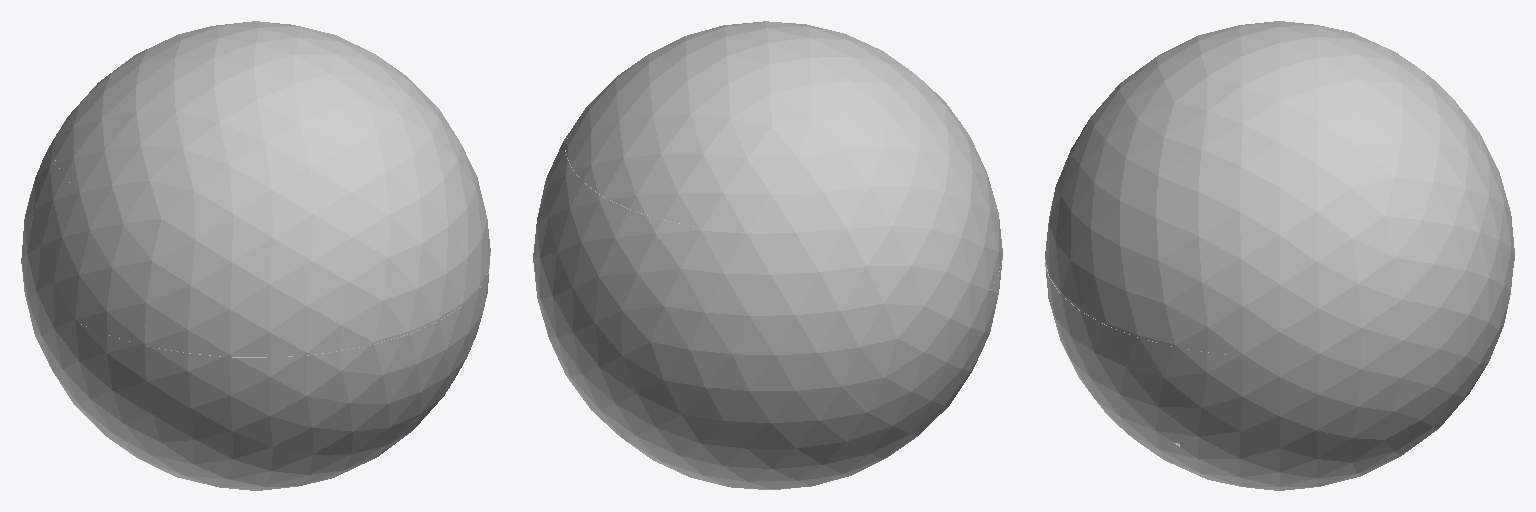
The model's file is muchospisces.obj.
3 renders of one model, left to right at view 1: azimuth 30°, elevation 25°; view 2: azimuth 150°, elevation 25°; view 3: azimuth 270°, elevation 25°, orthographic.
Visible parts, largest first — view 1: sphere.282, sphere.344, sphere.347, sphere.267, sphere.144, sphere.332, sphere.154, sphere.285, sphere.415, sphere.346, sphere.115, sphere.335 (+28 smaller); view 2: sphere.240, sphere.369, sphere.373, sphere.252, sphere.230, sphere.366, sphere.302, sphere.266, sphere.441, sphere.299, sphere.296, sphere.371 (+28 smaller); view 3: sphere.233, sphere.367, sphere.324, sphere.138, sphere.342, sphere.435, sphere.232, sphere.372, sphere.409, sphere.265, sphere.358, sphere.296 (+28 smaller).
Part boxes in pixels (x1,y1,x2,y2): sphere.282: (305,96,392,162); sphere.344: (367,264,428,344); sphere.347: (272,291,332,356); sphere.267: (338,159,412,227); sphere.144: (357,208,423,282); sphere.332: (123,279,179,351); sphere.154: (260,235,328,295); sphere.285: (222,115,298,178); sphere.415: (252,399,328,455); sphere.346: (224,295,274,356); sphere.115: (77,263,130,338); sphere.335: (86,208,152,278); sphere.240: (600,202,668,281); sphere.369: (595,263,656,343); sphere.373: (690,289,752,356); sphere.252: (696,229,764,293); sphere.230: (865,207,937,280); sphere.366: (884,262,945,341); sphere.302: (632,103,715,158); sphere.266: (613,155,685,220); sphere.441: (695,398,771,454); sphere.299: (753,76,831,149); sphere.296: (654,57,748,107); sphere.371: (748,293,799,356); sphere.233: (1323,283,1388,355); sphere.367: (1322,221,1388,292); sphere.324: (1118,272,1179,347); sphere.138: (1180,286,1237,355); sphere.342: (1180,226,1236,292); sphere.435: (1323,391,1389,453); sphere.232: (1323,346,1389,401); sphere.372: (1389,271,1439,344); sphere.409: (1180,394,1238,453); sphere.265: (1322,86,1387,151); sphere.358: (1237,294,1280,356); sphere.296: (1322,47,1387,108).
Size of the model in its own units: 206 by 208 by 208.